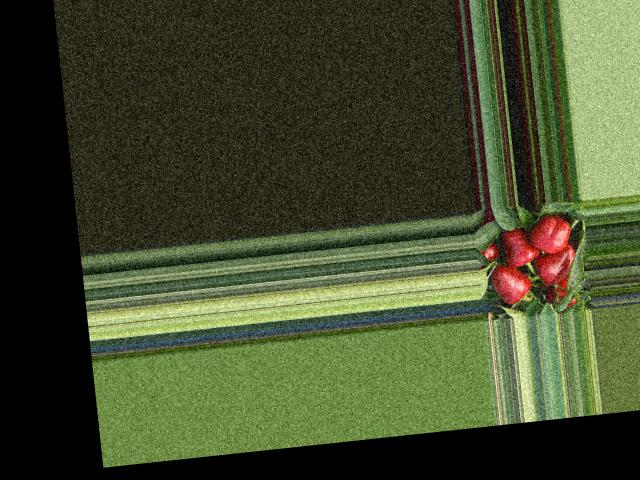bell_pepper: (519, 213, 576, 256)
